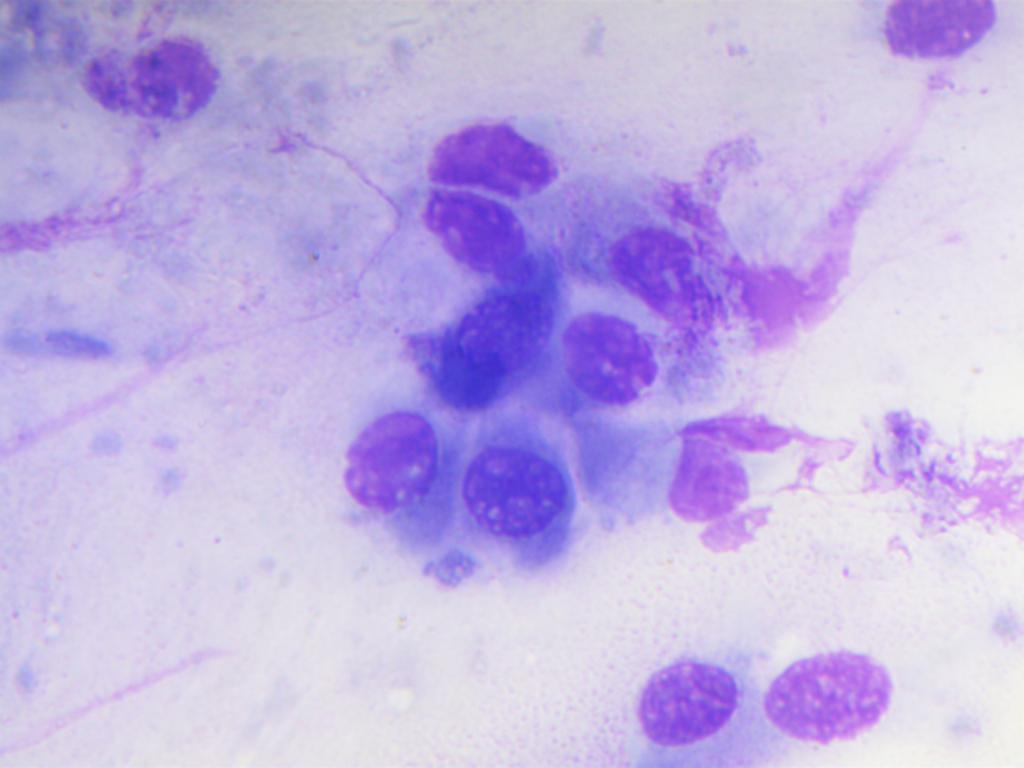artifact: (600, 190, 877, 346), (670, 404, 850, 566), (864, 414, 1024, 548)
epithelial: (331, 412, 453, 563), (456, 418, 578, 550), (754, 638, 896, 741), (615, 653, 757, 756), (427, 120, 562, 204), (414, 186, 538, 274), (555, 309, 657, 413), (878, 0, 1014, 63)
